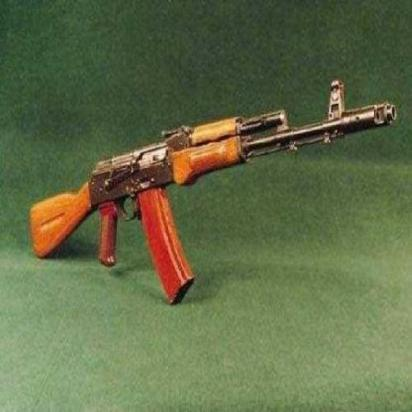Gun: (28, 97, 399, 304)
